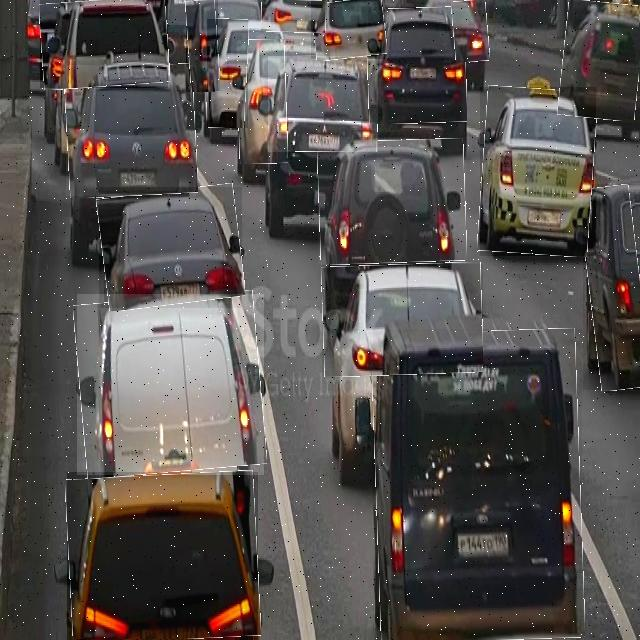Car: (77, 294, 264, 475), (67, 472, 258, 640), (480, 87, 596, 256), (318, 140, 466, 264), (322, 264, 483, 376), (99, 187, 242, 308), (66, 65, 196, 196), (583, 184, 640, 390), (368, 7, 466, 124), (40, 0, 168, 88), (268, 56, 378, 152), (560, 0, 640, 120), (237, 40, 287, 164), (207, 19, 248, 128), (311, 0, 385, 59), (186, 0, 218, 92), (452, 0, 489, 61), (261, 0, 326, 32)
Truck: (373, 329, 582, 640)
